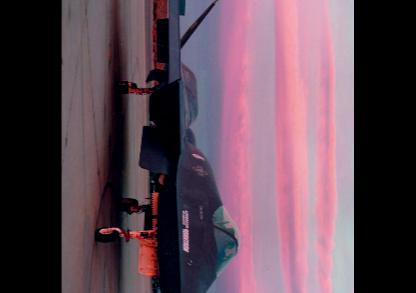US2: (95, 0, 241, 292)
